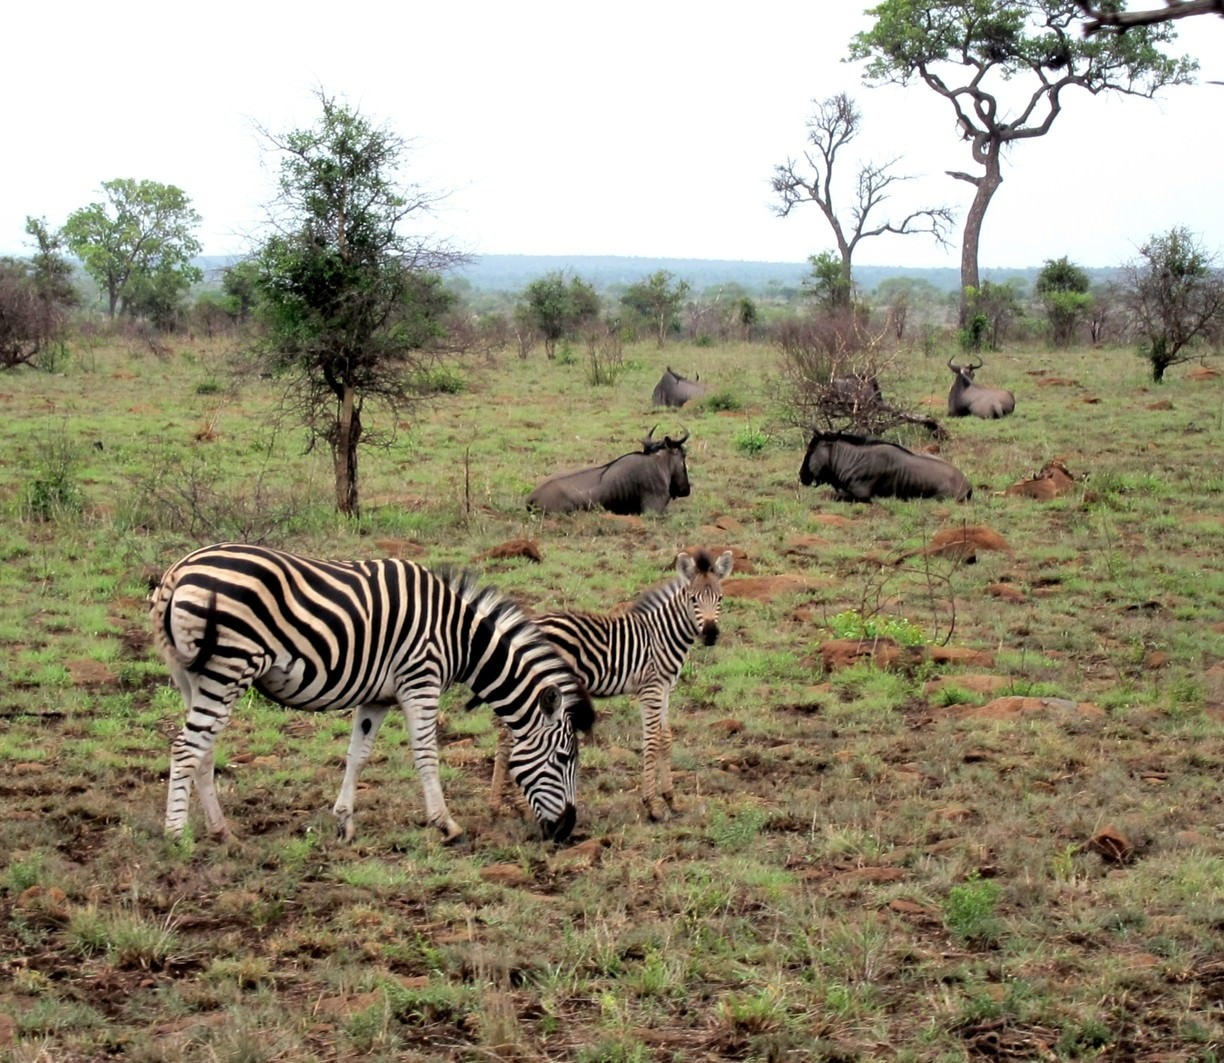zebra: (152, 541, 588, 876), (498, 553, 731, 805)
